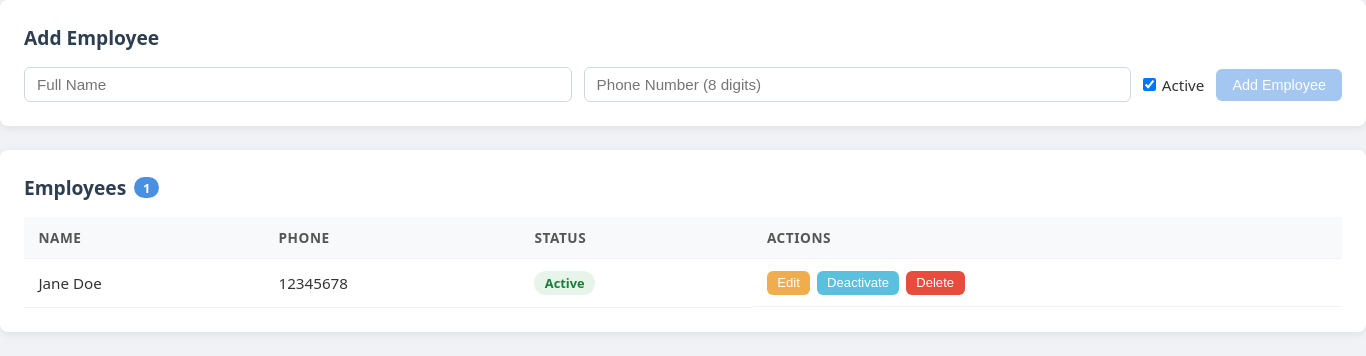
edit employee › clicking Edit shows inline inputs pre-filled with current values
Step 1. Click the button with class "btn-edit" → [789, 283], box left=767, top=271, right=810, bottom=295
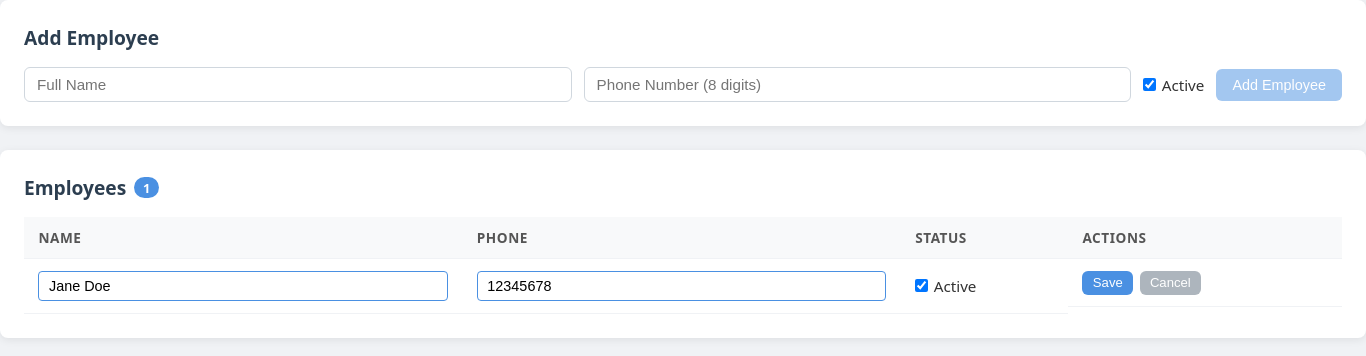
Check: the 1st field with class "inline-input" holds "Jane Doe", box left=38, top=271, right=448, bottom=301
Check: the 2nd field with class "inline-input" holds "12345678", box left=477, top=271, right=886, bottom=301
